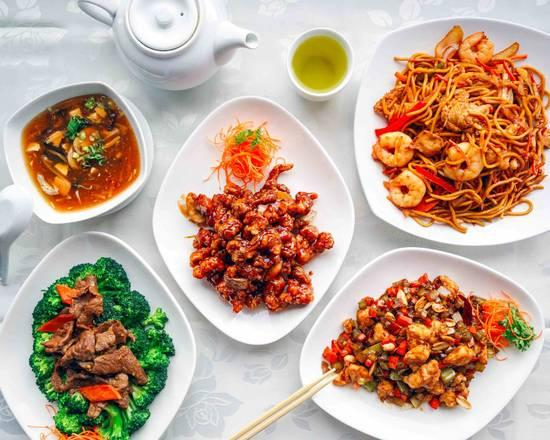Braised Crucian Carp: (153, 96, 350, 344), (300, 247, 545, 440), (352, 16, 550, 246), (0, 230, 198, 440), (3, 81, 154, 224)
